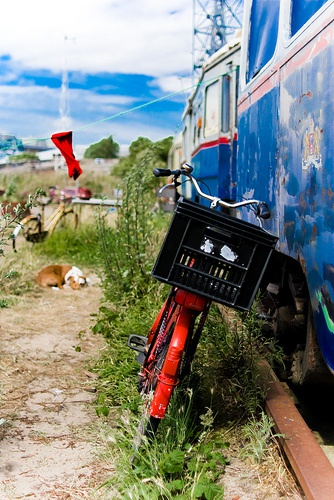non-vehicle: (125, 162, 279, 463), (10, 191, 79, 252)
